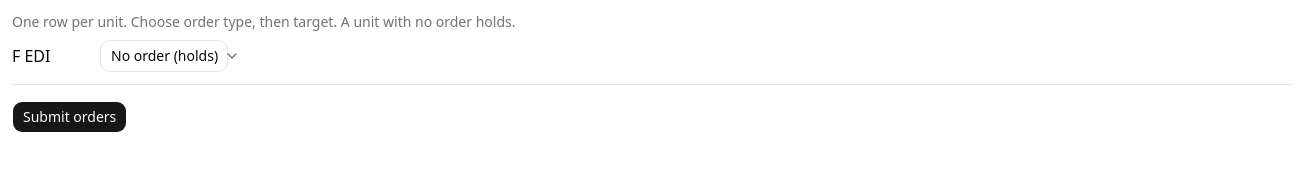
Test: UnitOrdersSection › leaves the target empty after choosing Move and blocks Submit with a reason
Press Enter in the dropdown named "Order type for F EDI", box [100, 40, 228, 72]
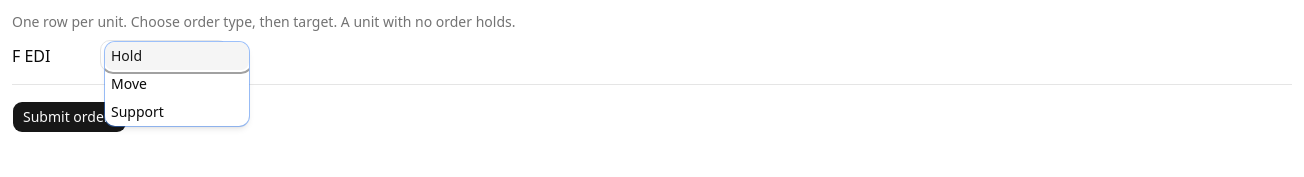
Click the option "Move": click(129, 84) [111, 74, 147, 93]
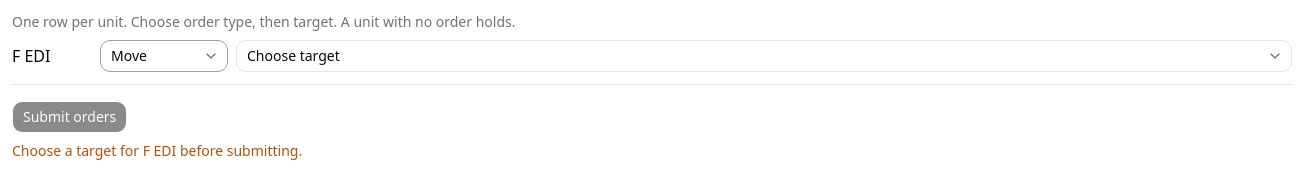
Now the dropdown named "Target for F EDI order" reads "Choose target", box [236, 40, 1292, 72]
Now the text "Choose a target for F EDI before submitting." is shown, box [12, 141, 302, 160]
